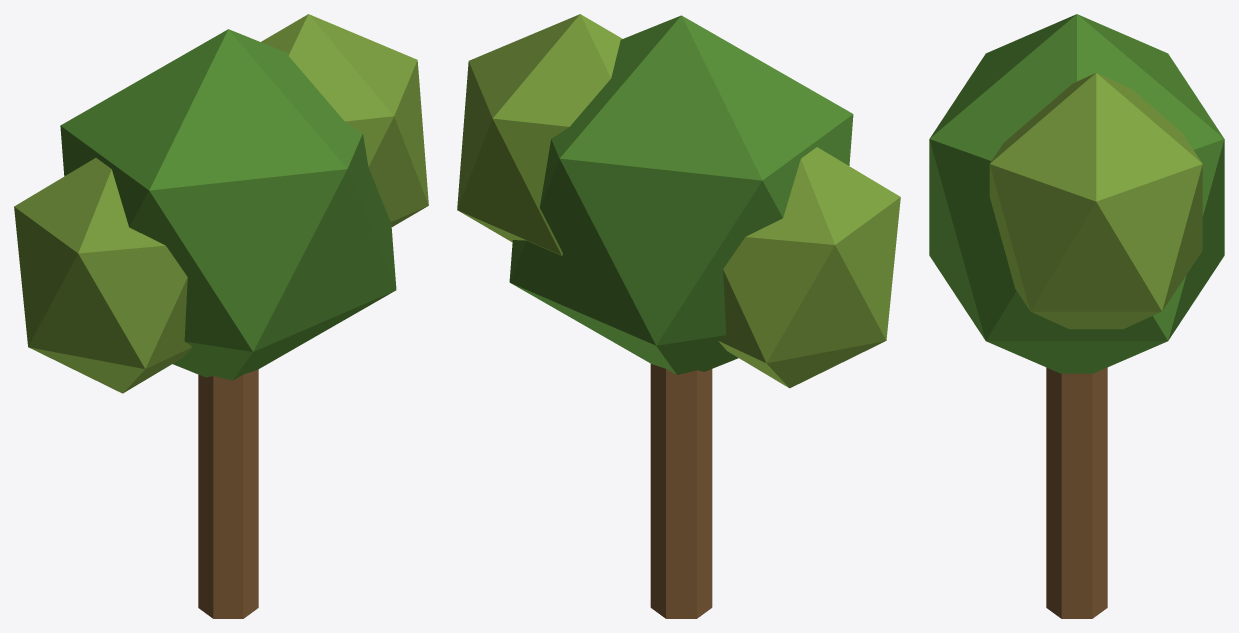
The model's file is tree.glb.
The picture shows the model from 3 angles, left to right: view 1: azimuth 30°, elevation 25°; view 2: azimuth 150°, elevation 25°; view 3: azimuth 270°, elevation 25°; orthographic projection. The views are drawn at different scales.
Visible parts, largest first — view 1: TreeMesh; view 2: TreeMesh; view 3: TreeMesh.
Part boxes in pixels (x1,y1,x2,y2): TreeMesh: (14,14,428,618); TreeMesh: (457,14,900,618); TreeMesh: (929,14,1224,618).
Size of the model in its own units: 2.45 by 3.4 by 1.53.
